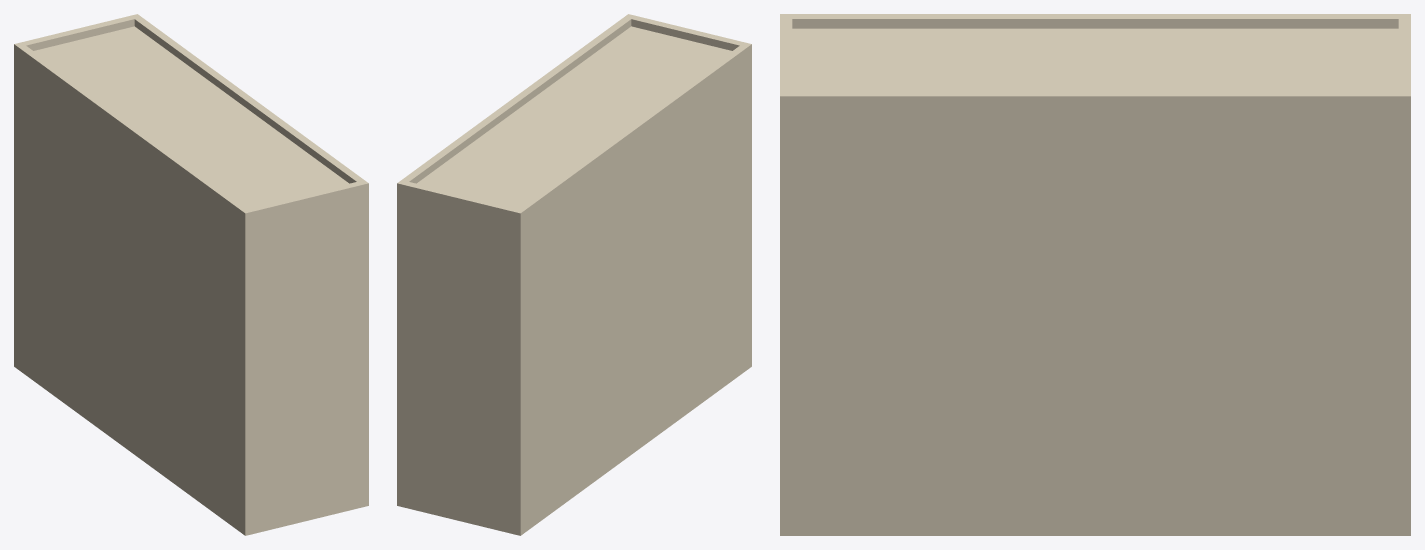
The model's file is SM_Department_of_Electrical_and Electronic_Engineering.fbx.
The picture shows the model from 3 angles, left to right: view 1: azimuth 30°, elevation 25°; view 2: azimuth 150°, elevation 25°; view 3: azimuth 270°, elevation 25°; orthographic projection. The views are drawn at different scales.
Visible parts, largest first — view 1: SM_Department_of_Electrical_and Electronic_Engineering; view 2: SM_Department_of_Electrical_and Electronic_Engineering; view 3: SM_Department_of_Electrical_and Electronic_Engineering.
Boxes of the visible parts, box(x1,y1,x2,y2) form: SM_Department_of_Electrical_and Electronic_Engineering: box(14, 14, 368, 535); SM_Department_of_Electrical_and Electronic_Engineering: box(397, 14, 751, 535); SM_Department_of_Electrical_and Electronic_Engineering: box(780, 14, 1410, 535).
Bounding box in the file's own units: 19.83 × 49.48 × 64.32.
